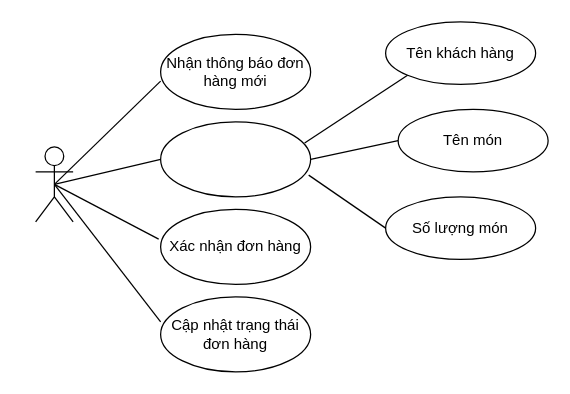
Image size: 570x394. Some labels were removed from this diagram. The shapes that lost their labels are listed below. From the top down, each one's centre as x and y in pixels, then its label:
At point 235,159: "Xem chi tiết đơn hàng".
At point 53,184: "Cửa hàng".
